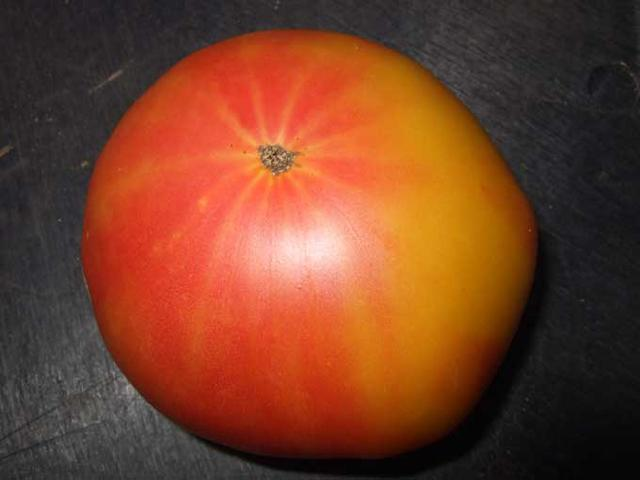tomato: (82, 29, 531, 461)
